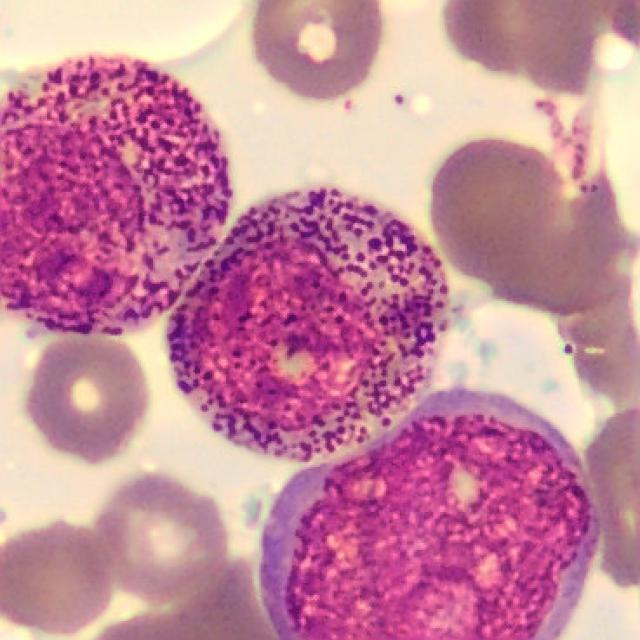Mieloblasto: (259, 389, 600, 640)
Promielocito: (163, 187, 452, 465), (0, 55, 231, 336)
